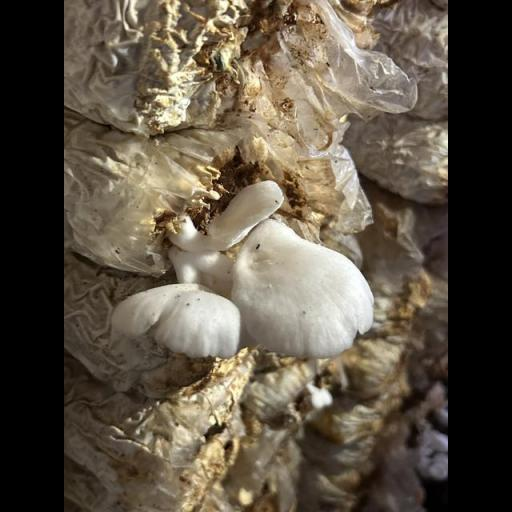White Oyster Mushroom: (115, 184, 370, 360)
